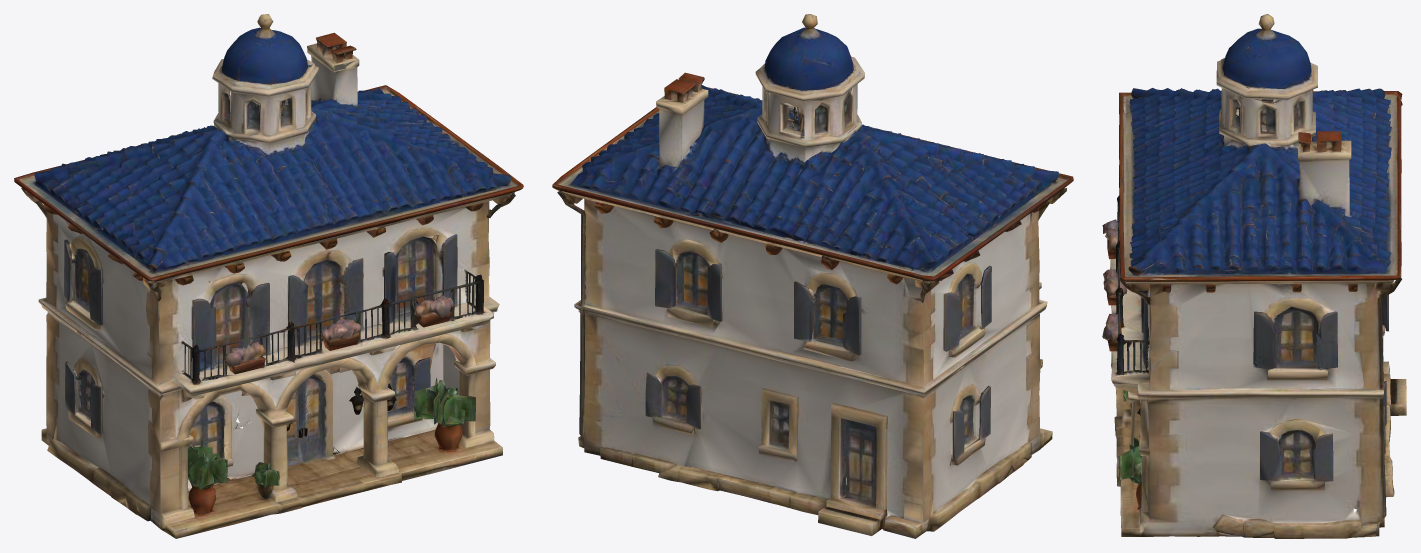
3 views of the same model, side by side, from view 1: azimuth 30°, elevation 25°; view 2: azimuth 150°, elevation 25°; view 3: azimuth 270°, elevation 25° (orthographic). The views are drawn at different scales.
Visible parts, largest first — view 1: harbor__hotel_2__native_mobile; view 2: harbor__hotel_2__native_mobile; view 3: harbor__hotel_2__native_mobile.
Part boxes in pixels (x1,y1,x2,y2): harbor__hotel_2__native_mobile: [14, 14, 523, 538]; harbor__hotel_2__native_mobile: [552, 14, 1073, 538]; harbor__hotel_2__native_mobile: [1102, 14, 1406, 538].
Bounding box in the file's own units: 0.9164 × 1 × 0.6258.
1 material, 1 textured.
